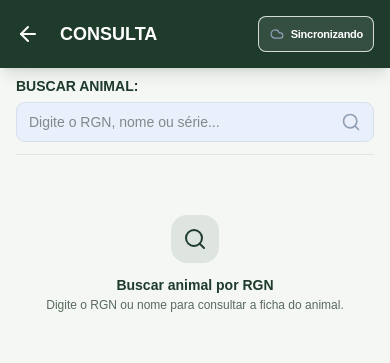
it: ConsultAnimals Page › deve filtrar a lista ao digitar no campo de busca (case-insensitive e tolerante a espaços)
Type "indi 580" into the field with placeholder "Digite o RGN, nome ou série..." at (173, 122), box 17,102 -> 329,142
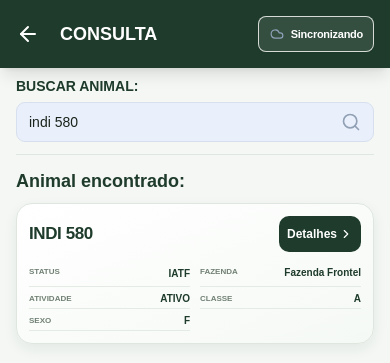
Now the heading "INDI 580" is shown, box 29,223 -> 93,245
